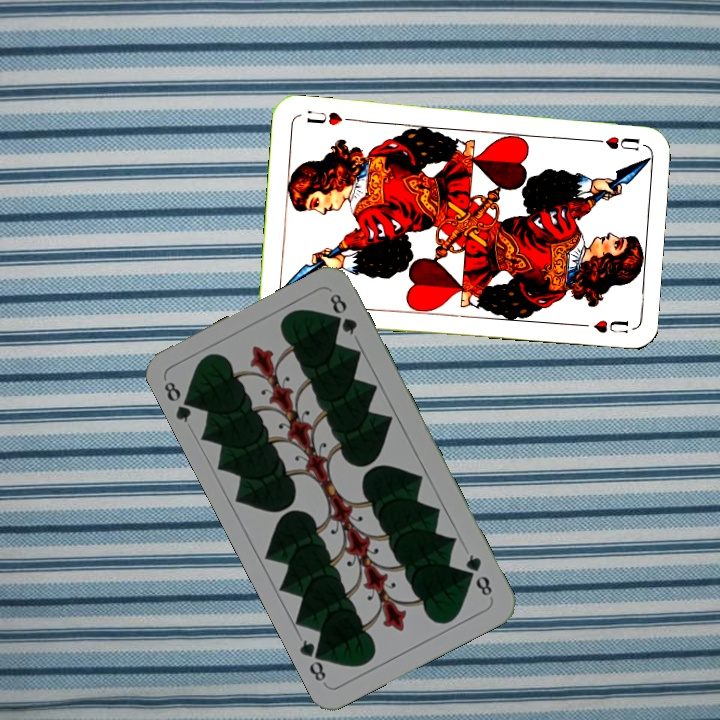G8: (159, 377, 199, 426), (461, 550, 495, 599)
HU: (586, 132, 642, 153)
